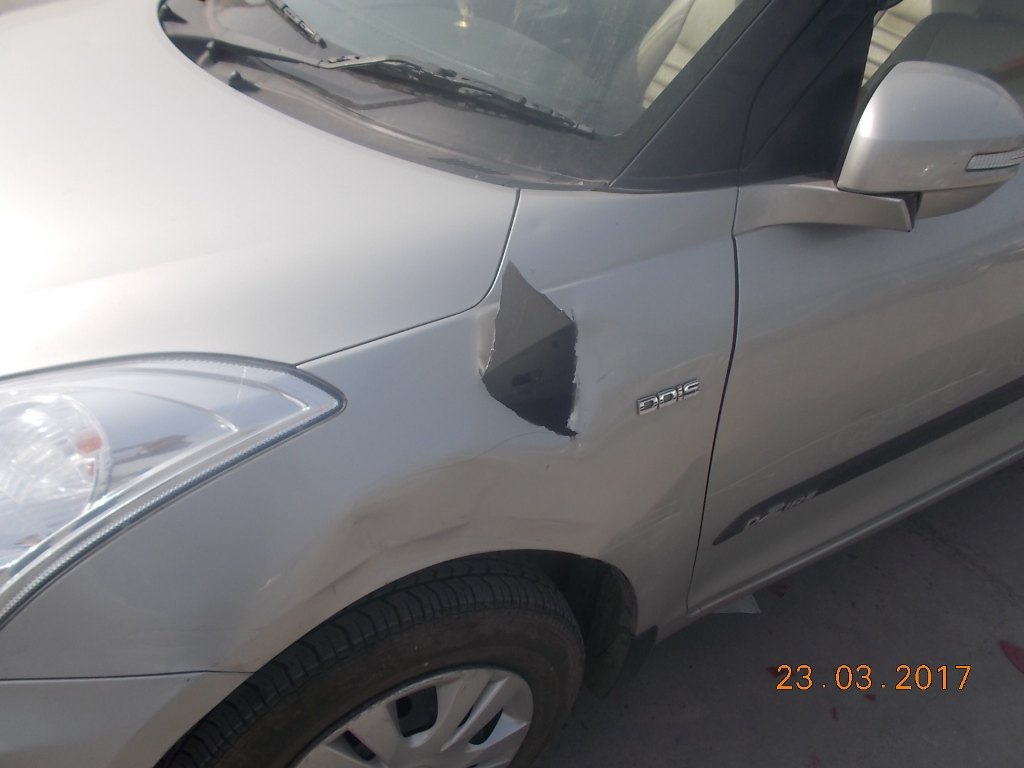Tear: (491, 274, 602, 432)
